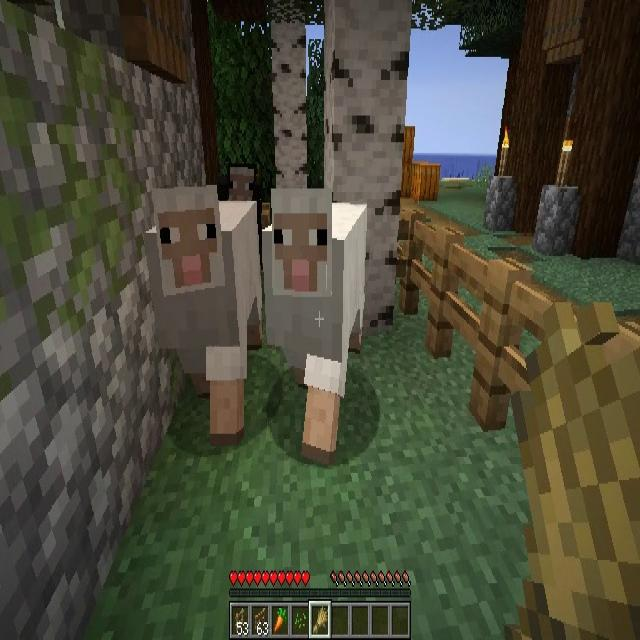sheep: (265, 187, 369, 454), (151, 186, 259, 441), (218, 164, 261, 200)
